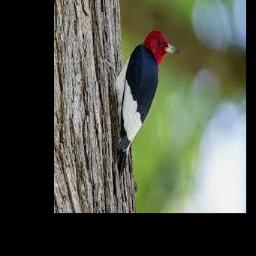Woodpecker: (105, 29, 180, 176)
